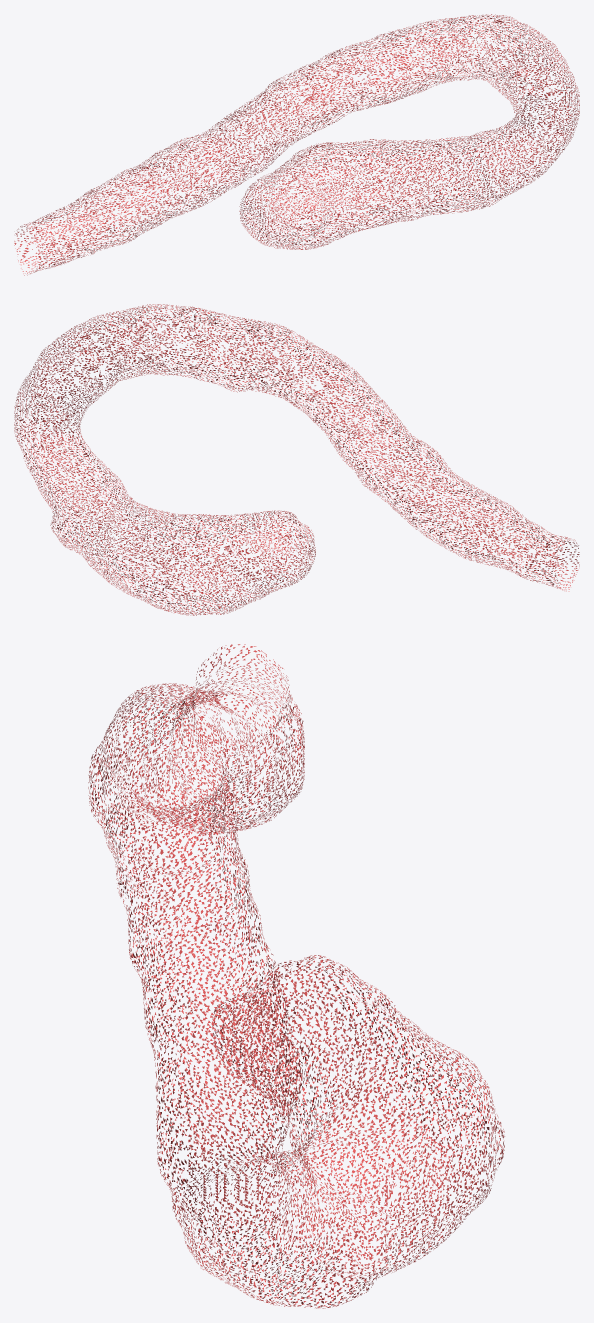
Rendered from aorta.glb.
3 renders of one model, top to bottom at view 1: azimuth 30°, elevation 25°; view 2: azimuth 150°, elevation 25°; view 3: azimuth 270°, elevation 25°, orthographic. The views are drawn at different scales.
Size of the model in its own units: 283 by 121 by 93.43.
